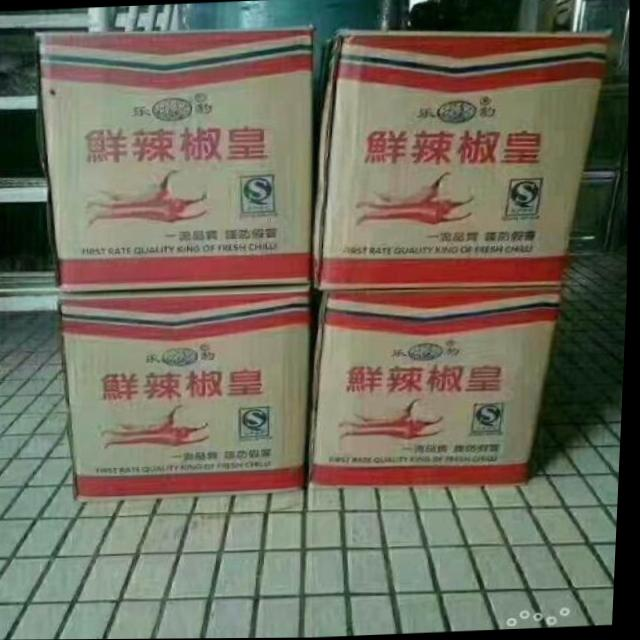box: (314, 30, 610, 291), (35, 24, 314, 295), (58, 285, 315, 503), (313, 289, 565, 490)
